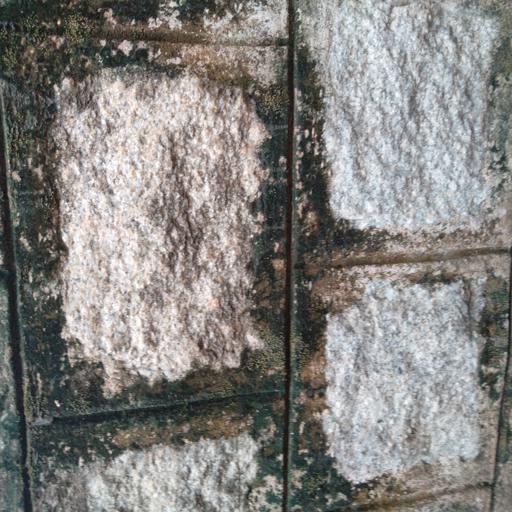algae: (0, 1, 399, 494)
